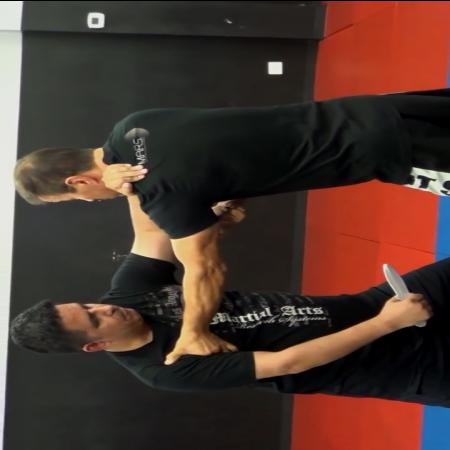long weapon: (375, 260, 432, 329)
